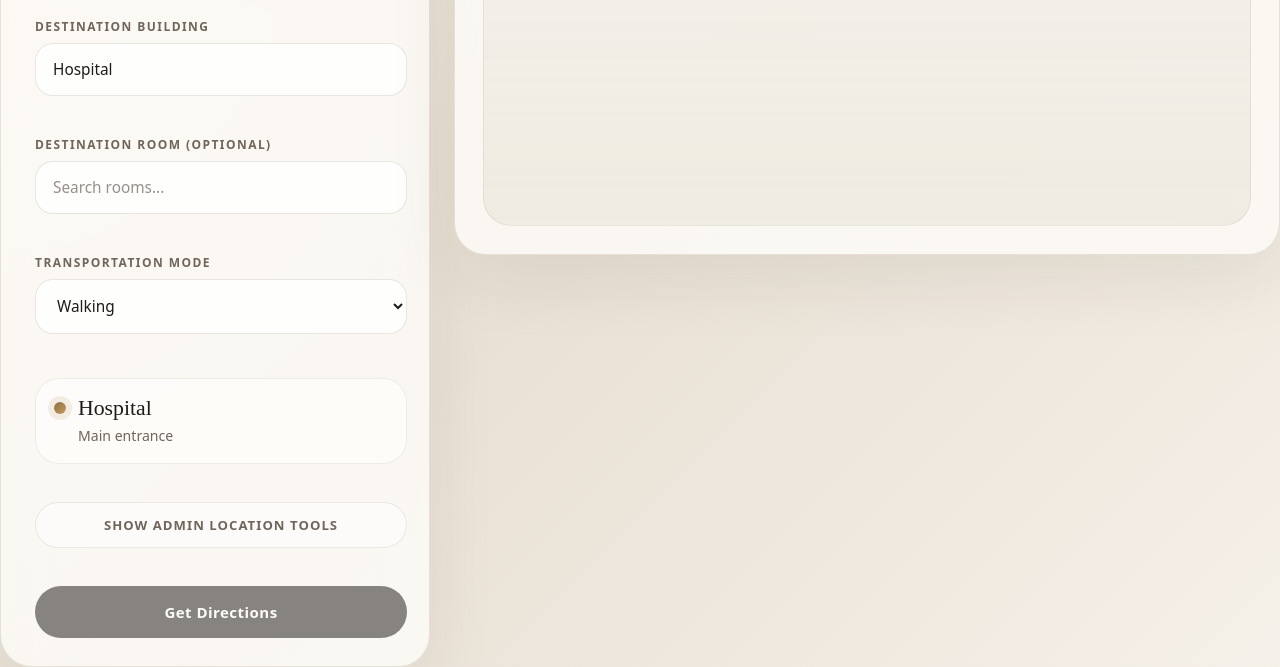
Test case: OutdoorNavigation › requests and renders walking directions for a mocked outdoor start
(page scrolled)
Expected: the field showing "Hospital" is shown, [35,43,407,96]
Click the button "Show Admin Location Tools" at [221, 525], box [35,502,407,548]
(page scrolled)
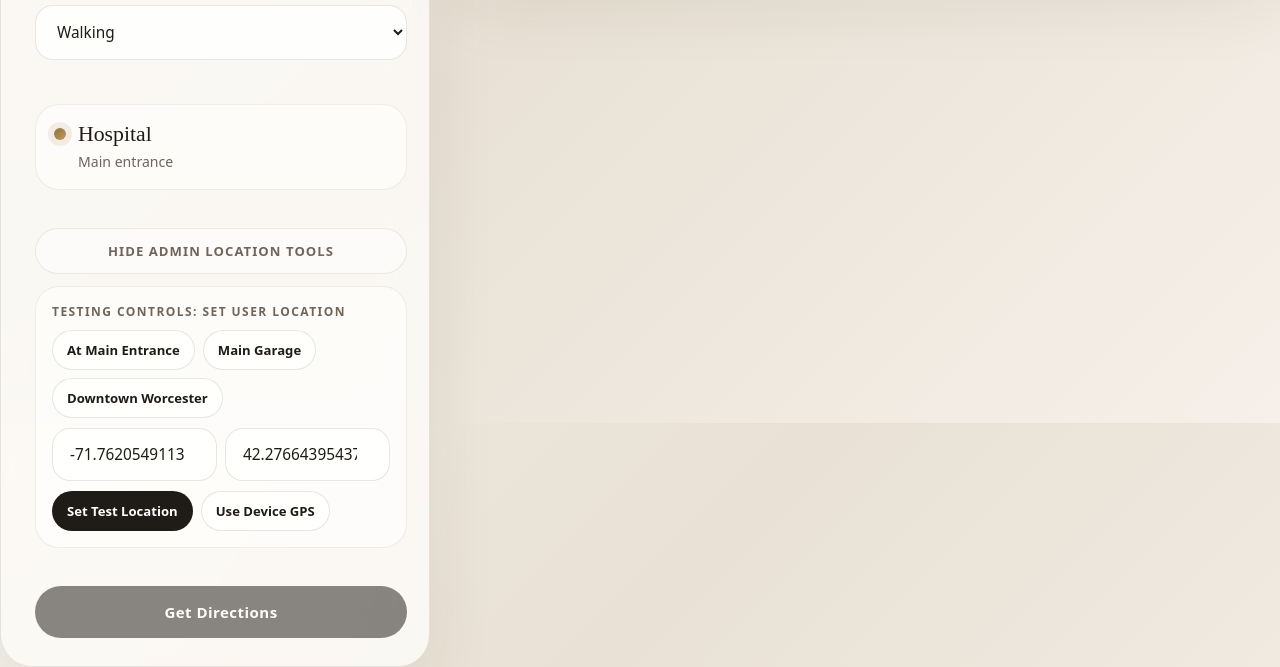
Click the button "Downtown Worcester" at [137, 398], box [52,378,223,418]
(page scrolled)
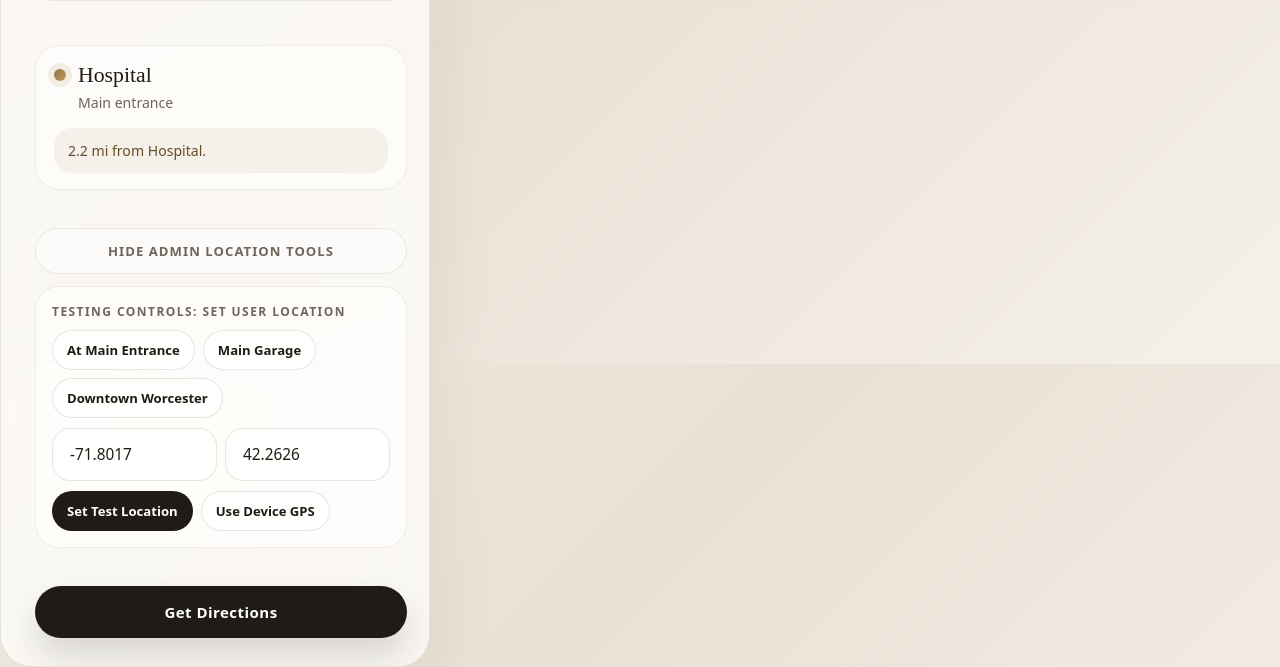
Result: the button "Get Directions" is enabled
Click the button "Get Directions" at [221, 612], box [35,586,407,638]
(page scrolled)
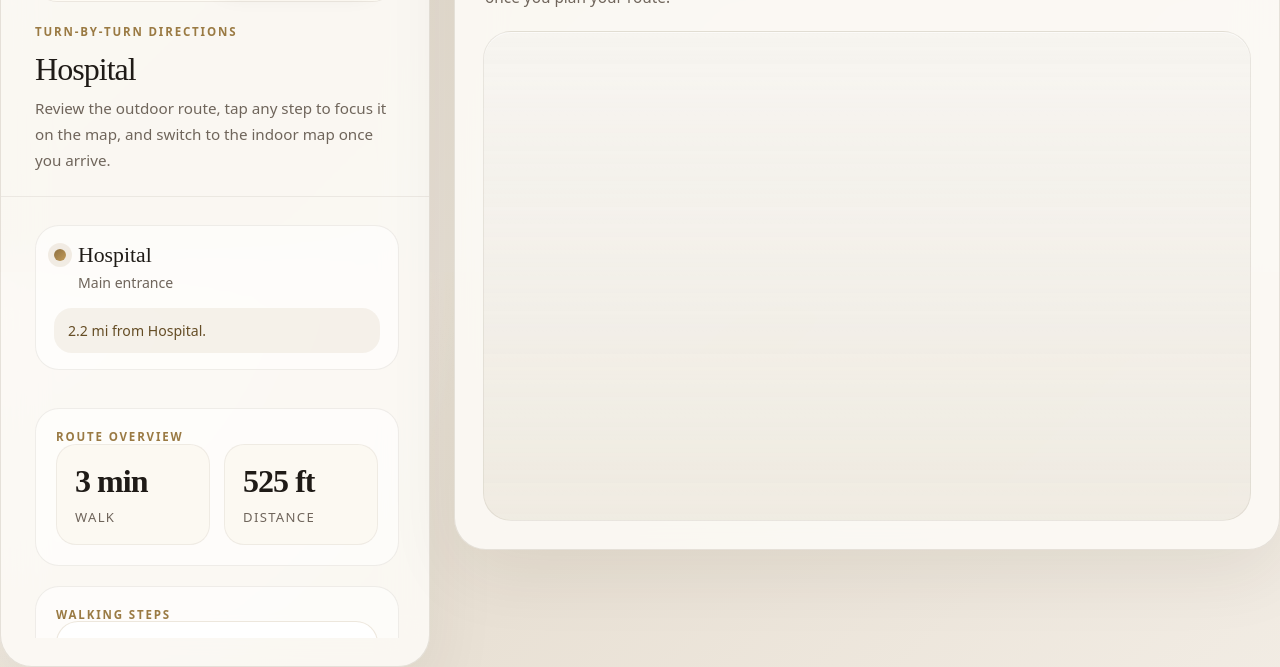
Result: the text "3 min" is shown at [75,463,148,499]
Result: the text "525 ft" is shown 2 times
